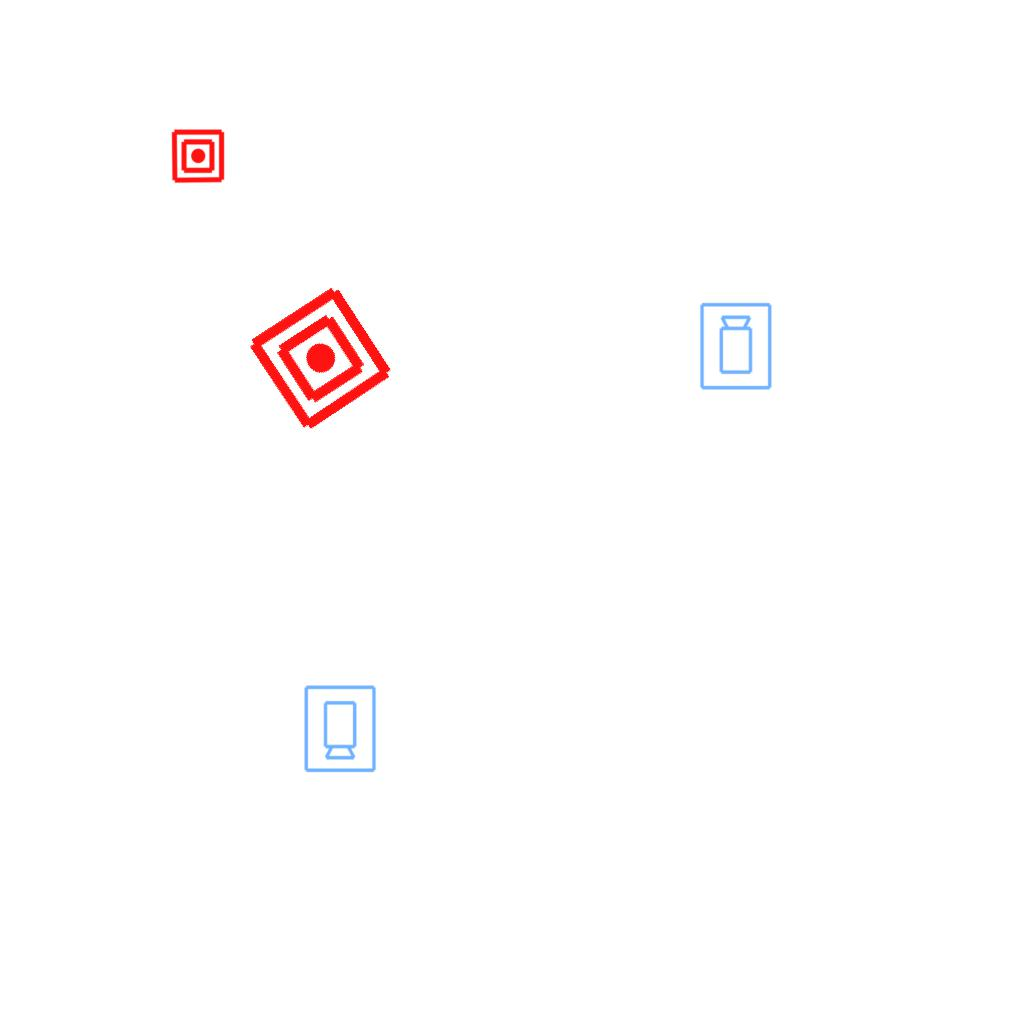KFO_Kamera_mit_Festobjektiv: (301, 683, 378, 774), (698, 301, 775, 392)
NAM-Nichtautomatischer_Melder: (242, 280, 399, 437), (170, 128, 226, 184)
